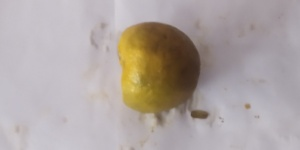BAD: (118, 21, 200, 113)
